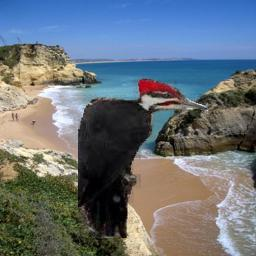Woodpecker: (78, 78, 208, 238)
